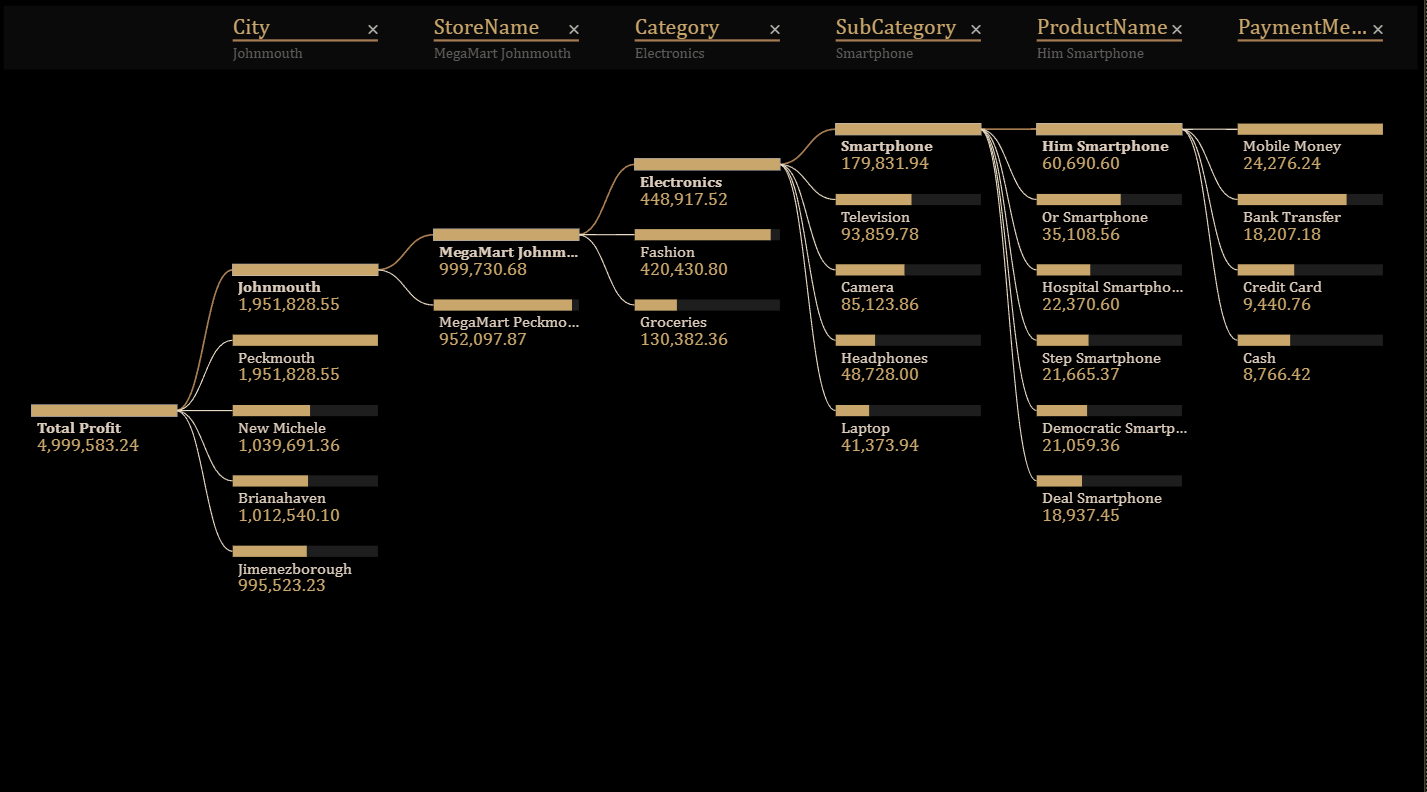

The page's visual inventory and layout, read from the dashboard file:
{"tool":"powerbi","page":{"name":"Page 2","canvas":[1280,720],"ordinal":1},"visuals":[{"type":"decompositionTreeVisual","fields":{"Analyze":["Transactions.Total Profit"],"ExplainBy":["vw_CitySalesSummary.City","Stores.StoreName","Products.Category","Products.SubCategory","Products.ProductName","Transactions.PaymentMethod"]},"box":[0,0,1280,719.9],"z":0}]}

Visuals, with their boxes in screenshot pixels (x1, y1, x2, y2), scaled from the page's 1280x720 canvas onto the 1427x792 screenshot:
decompositionTreeVisual - Transactions.Total Profit x vw_CitySalesSummary.City: 0 0 1426 791
